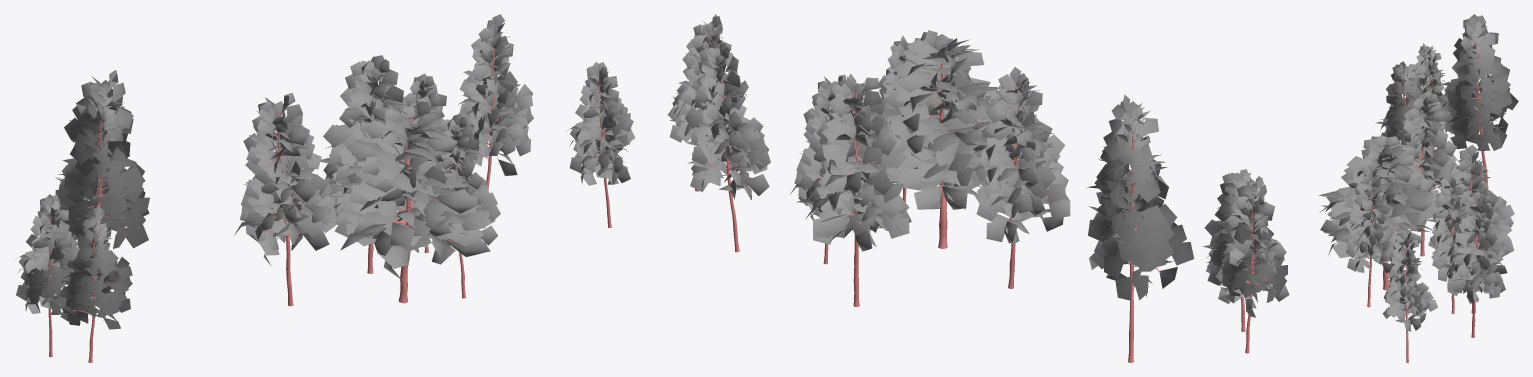
File: Woods_Dawn_Trees_15.gltf
The picture shows the model from 3 angles, left to right: view 1: azimuth 30°, elevation 25°; view 2: azimuth 150°, elevation 25°; view 3: azimuth 270°, elevation 25°; orthographic projection. The views are drawn at different scales.
Parts seen in each view (by area): view 1: Woods_Dawn_Trees_15; view 2: Woods_Dawn_Trees_15; view 3: Woods_Dawn_Trees_15.
Part boxes in pixels (x1,y1,x2,y2): Woods_Dawn_Trees_15: [16, 14, 635, 362]; Woods_Dawn_Trees_15: [668, 14, 1289, 362]; Woods_Dawn_Trees_15: [1319, 14, 1518, 362].
Bounding box in the file's own units: 206 × 86.4 × 79.
